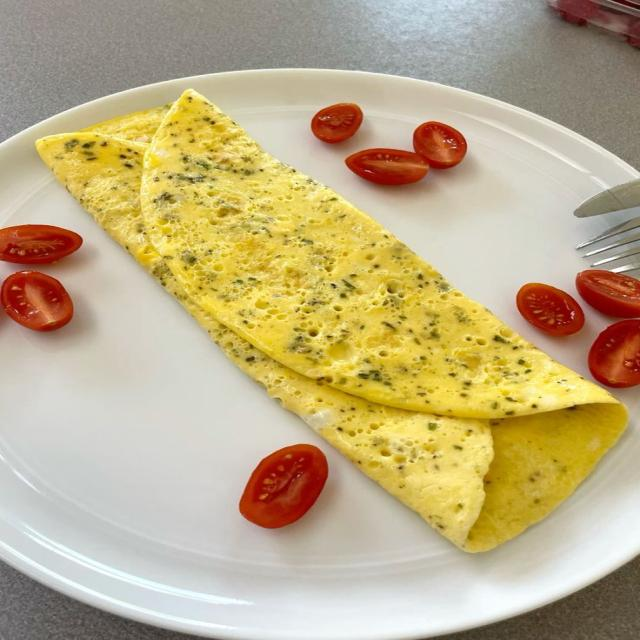omelette: (38, 133, 626, 551), (141, 91, 616, 418)
